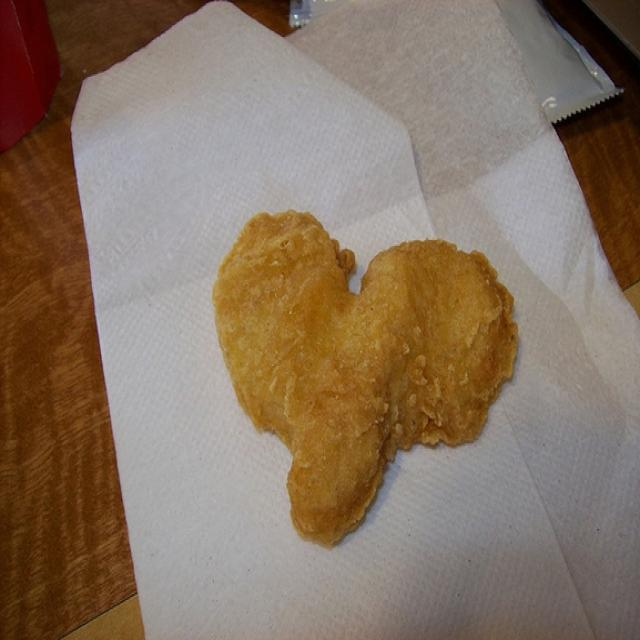鸡肉料理 含炸鸡: (90, 51, 588, 588)
